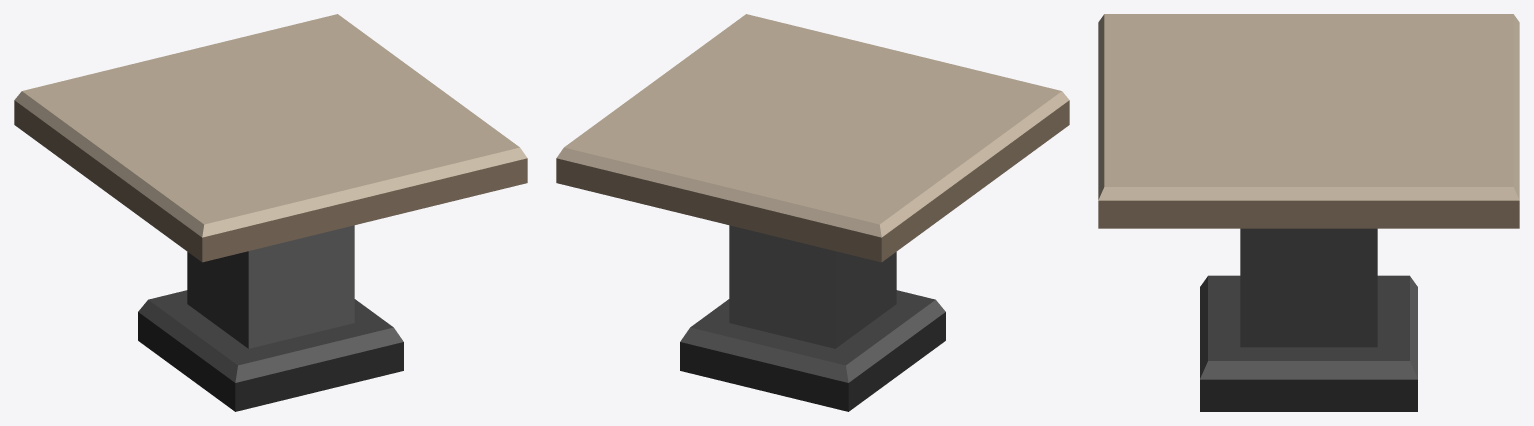
The model's file is CR_Table_Small_1.fbx.
3 renders of one model, left to right at view 1: azimuth 30°, elevation 25°; view 2: azimuth 150°, elevation 25°; view 3: azimuth 270°, elevation 25°, orthographic. The views are drawn at different scales.
Visible parts, largest first — view 1: CR_Table_Small_1; view 2: CR_Table_Small_1; view 3: CR_Table_Small_1.
Boxes of the visible parts, bbox=[...] form: CR_Table_Small_1: bbox=[14, 14, 527, 411]; CR_Table_Small_1: bbox=[556, 14, 1069, 411]; CR_Table_Small_1: bbox=[1098, 14, 1519, 411].
Bounding box in the file's own units: 1 × 0.6947 × 1.
